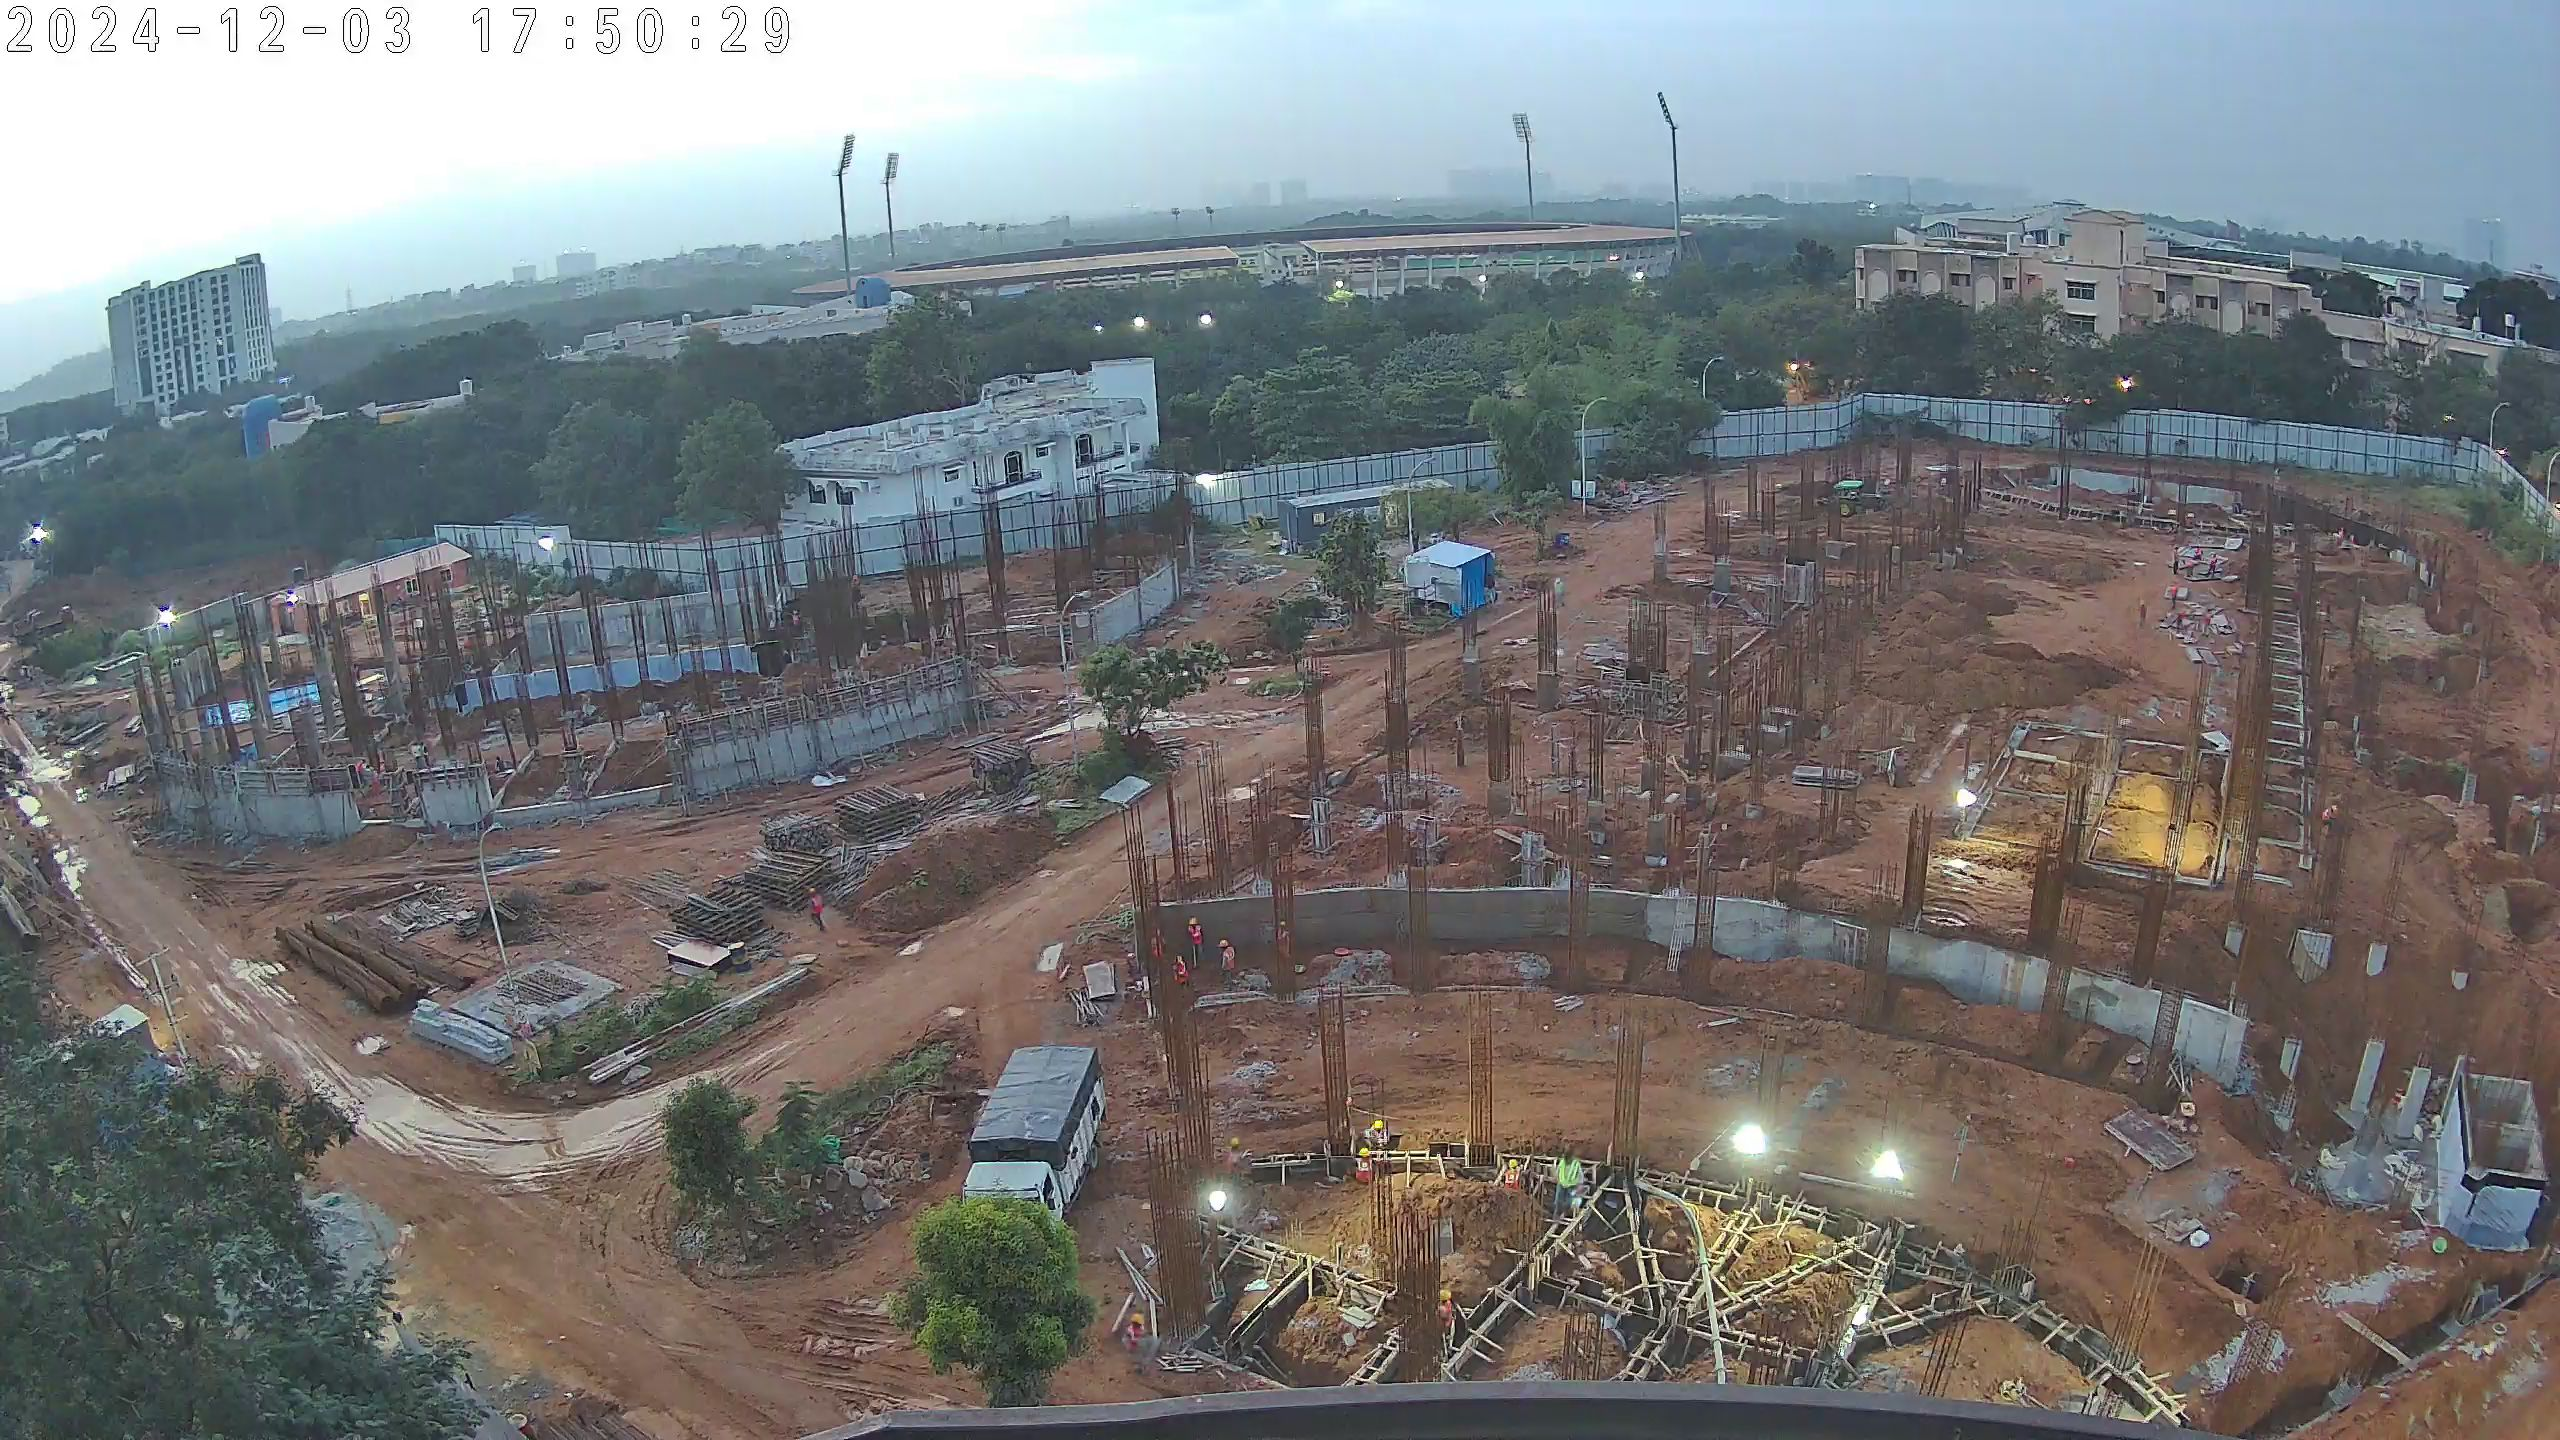bulldozer: (1825, 476, 1895, 528)
truck: (958, 1041, 1106, 1237)
worker: (1424, 1287, 1466, 1362), (1549, 1141, 1580, 1229), (1118, 1310, 1150, 1374), (802, 883, 831, 943), (1497, 1147, 1525, 1204), (1213, 936, 1242, 988), (1347, 1145, 1376, 1189), (1183, 914, 1208, 963), (1362, 1114, 1391, 1155), (2318, 796, 2340, 839), (1170, 951, 1194, 990), (1150, 933, 1166, 983), (1549, 575, 1568, 612), (369, 769, 385, 801), (2167, 580, 2183, 611), (2135, 600, 2150, 633), (2206, 550, 2221, 583), (2199, 605, 2212, 640), (788, 605, 803, 635), (2172, 607, 2187, 636), (2171, 543, 2183, 578), (848, 571, 864, 597), (2184, 555, 2197, 583), (2191, 540, 2205, 564), (353, 758, 363, 781)
